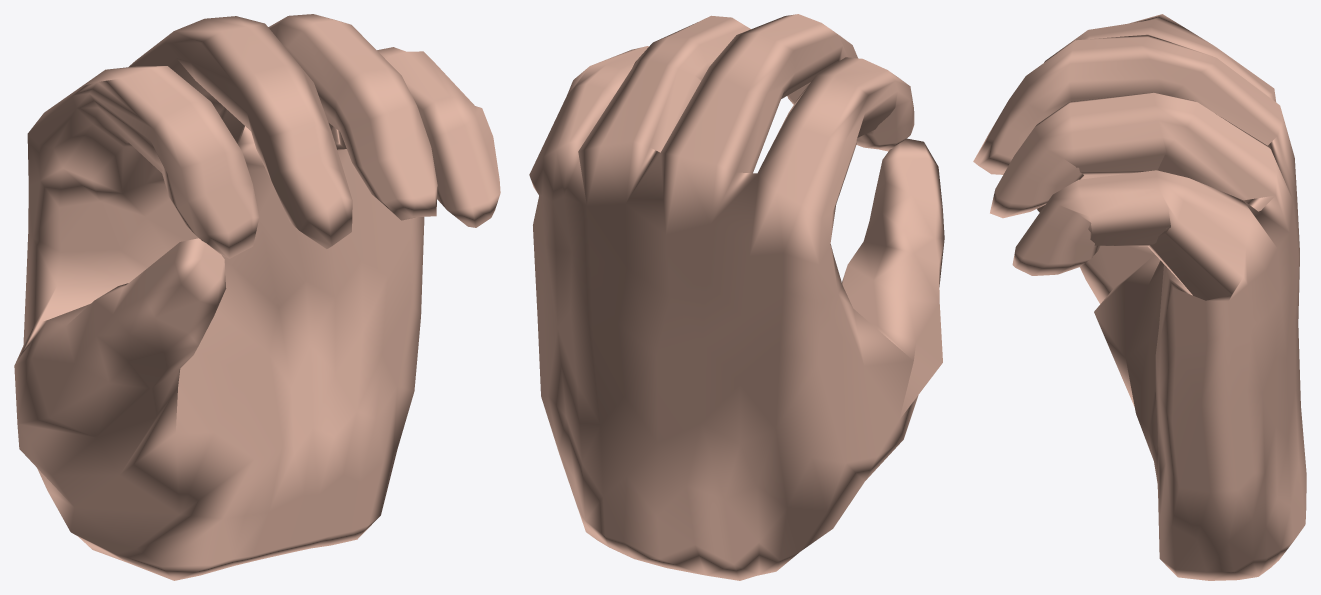
Rendered from MAO_O.obj.
The picture shows the model from 3 angles, left to right: view 1: azimuth 30°, elevation 25°; view 2: azimuth 150°, elevation 25°; view 3: azimuth 270°, elevation 25°; orthographic projection. The views are drawn at different scales.
Visible parts, largest first — view 1: mao_dir polySurface1; view 2: mao_dir polySurface1; view 3: mao_dir polySurface1.
Part boxes in pixels (x1,y1,x2,y2): mao_dir polySurface1: [14, 14, 500, 580]; mao_dir polySurface1: [529, 14, 944, 580]; mao_dir polySurface1: [973, 14, 1306, 580].
Size of the model in its own units: 133 by 171 by 108.
